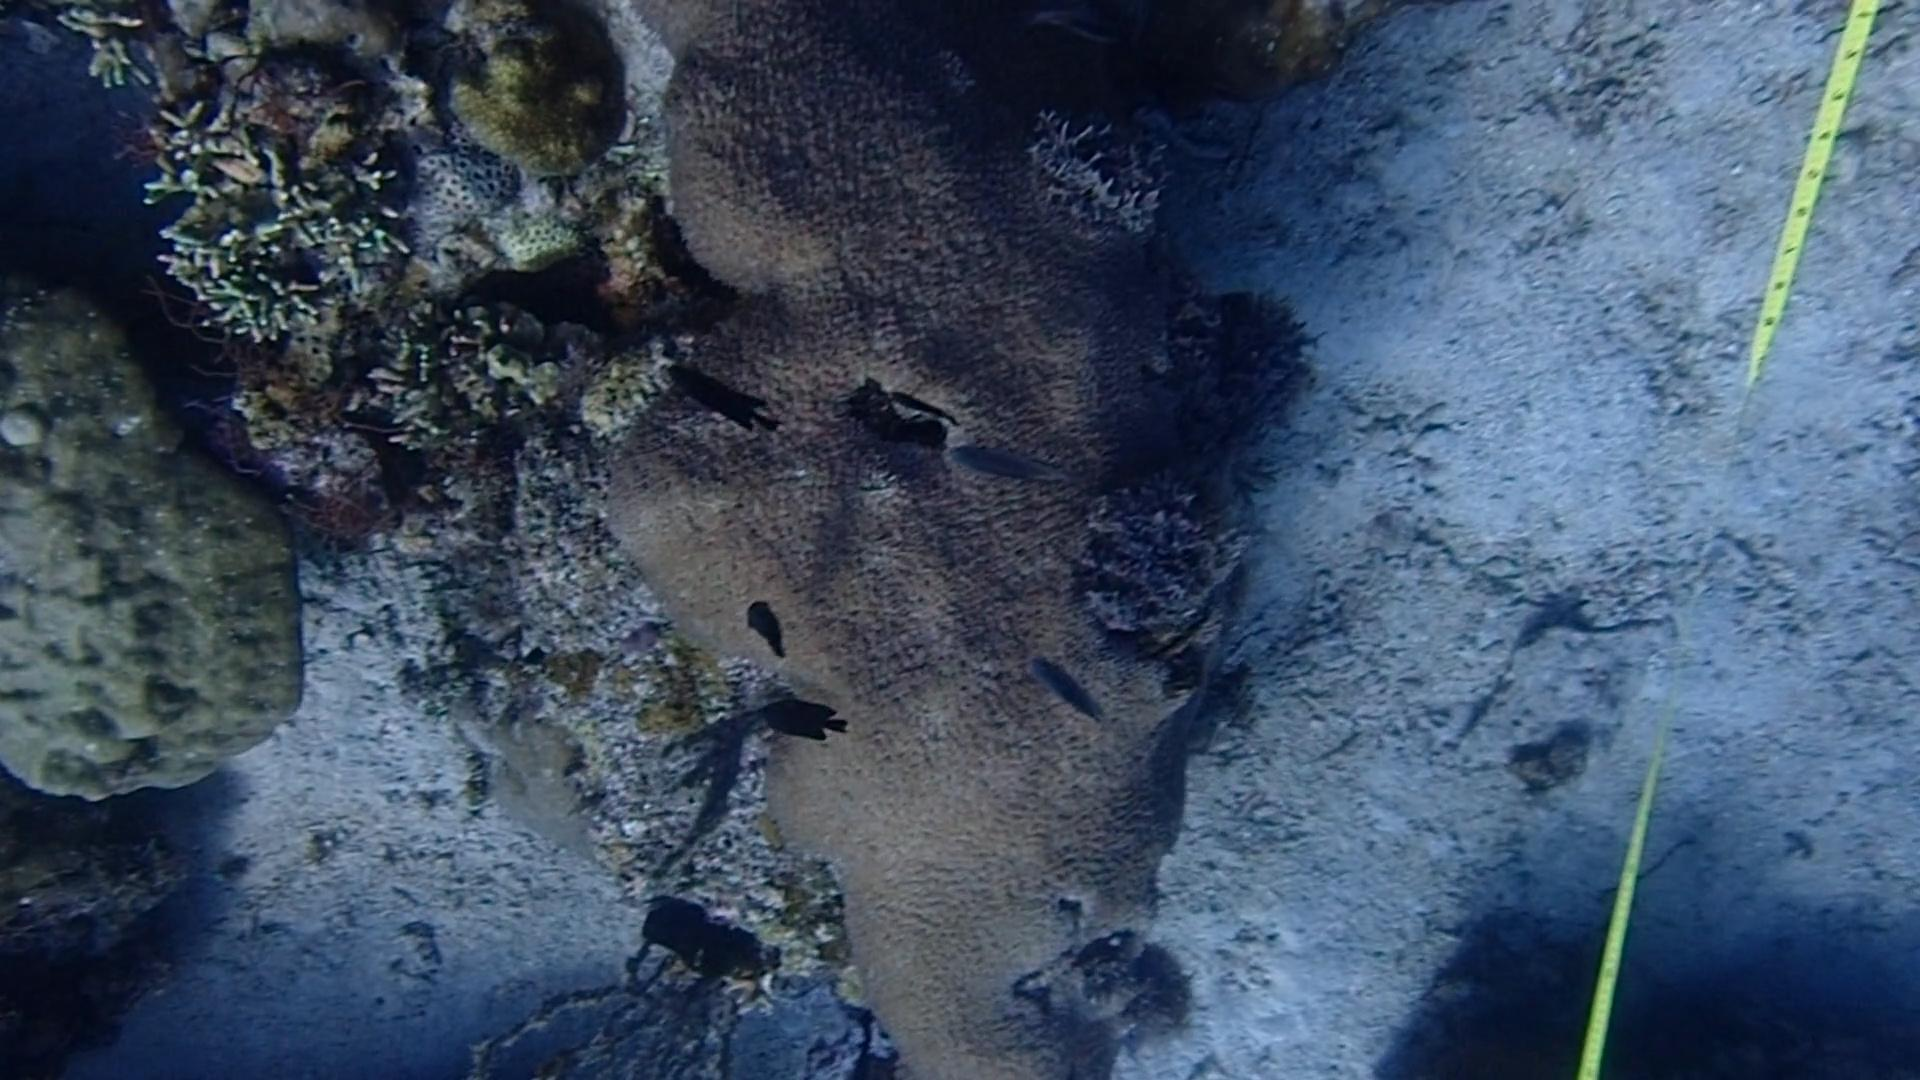Dark Fish: (650, 353, 774, 439), (744, 690, 855, 756), (732, 596, 806, 663), (884, 378, 963, 426)
Light Fish: (947, 426, 1064, 506), (1019, 650, 1110, 742), (1026, 0, 1137, 61)
